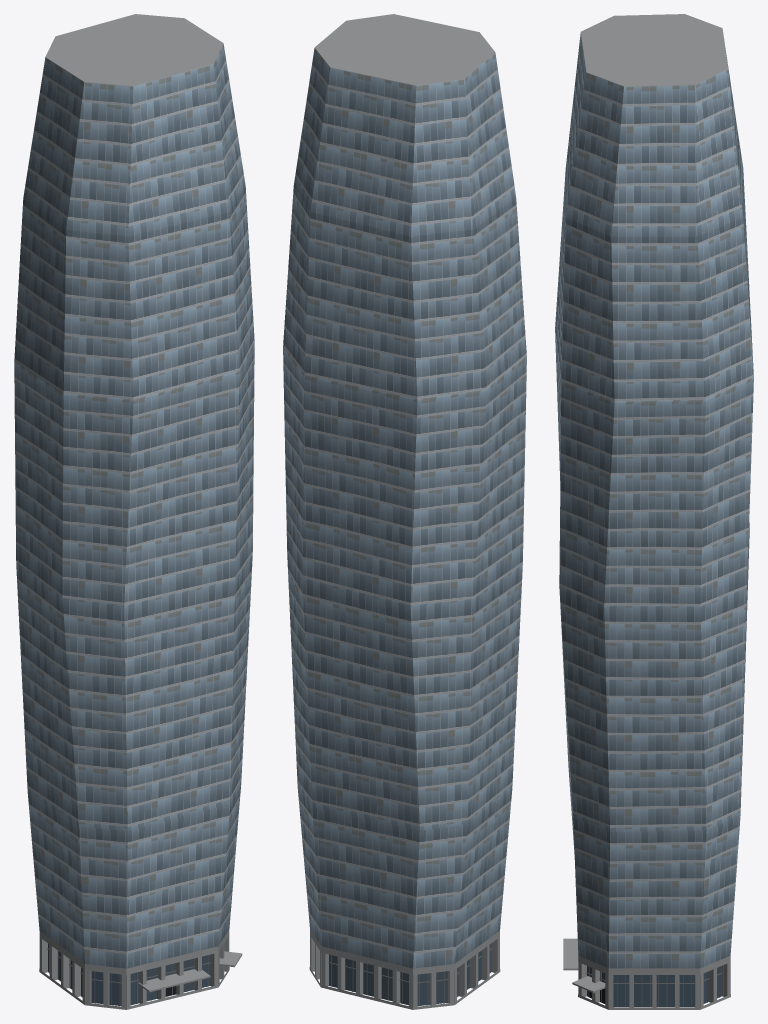
Rendered from f5_tower.glb.
The picture shows the model from 3 angles, left to right: view 1: azimuth 30°, elevation 25°; view 2: azimuth 150°, elevation 25°; view 3: azimuth 270°, elevation 25°; orthographic projection.
Visible parts, largest first — view 1: f5_tower; view 2: f5_tower; view 3: f5_tower.
Part boxes in pixels (box(x1,y1,x2,y2)): f5_tower: box(14, 14, 254, 1009); f5_tower: box(283, 14, 526, 1009); f5_tower: box(555, 14, 753, 1009).
Bounding box in the file's own units: 45.83 × 201 × 39.21.
Materials: 2 (2 with a texture image).
